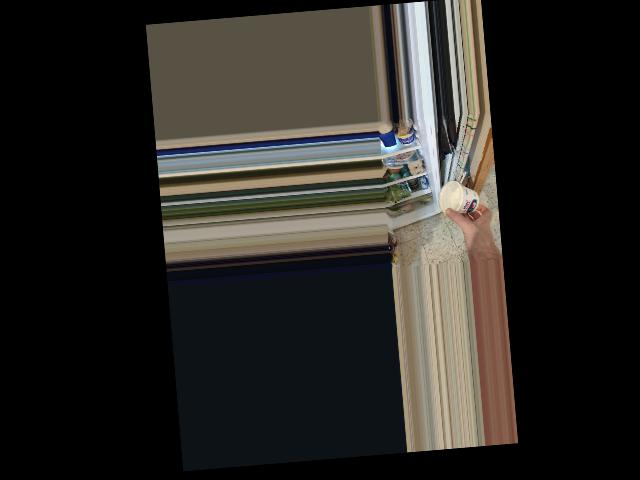cotage: (441, 181, 480, 217)
